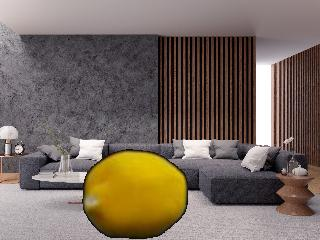lemon: (83, 150, 186, 237)
